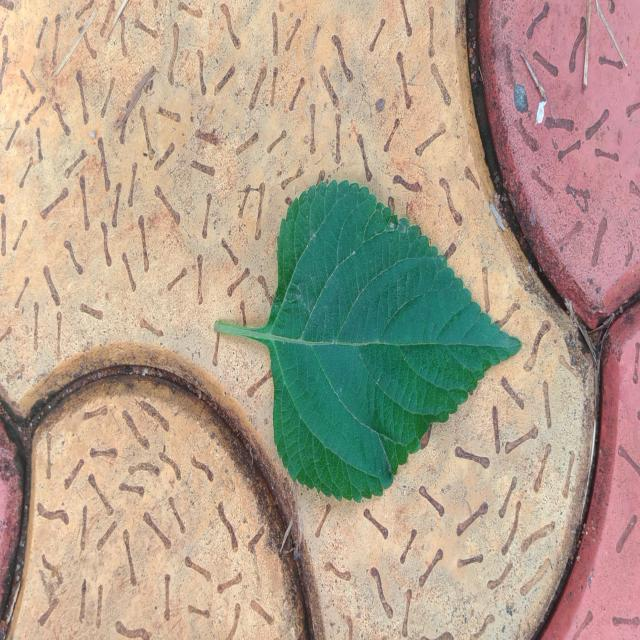Lantana: (215, 180, 521, 500)
